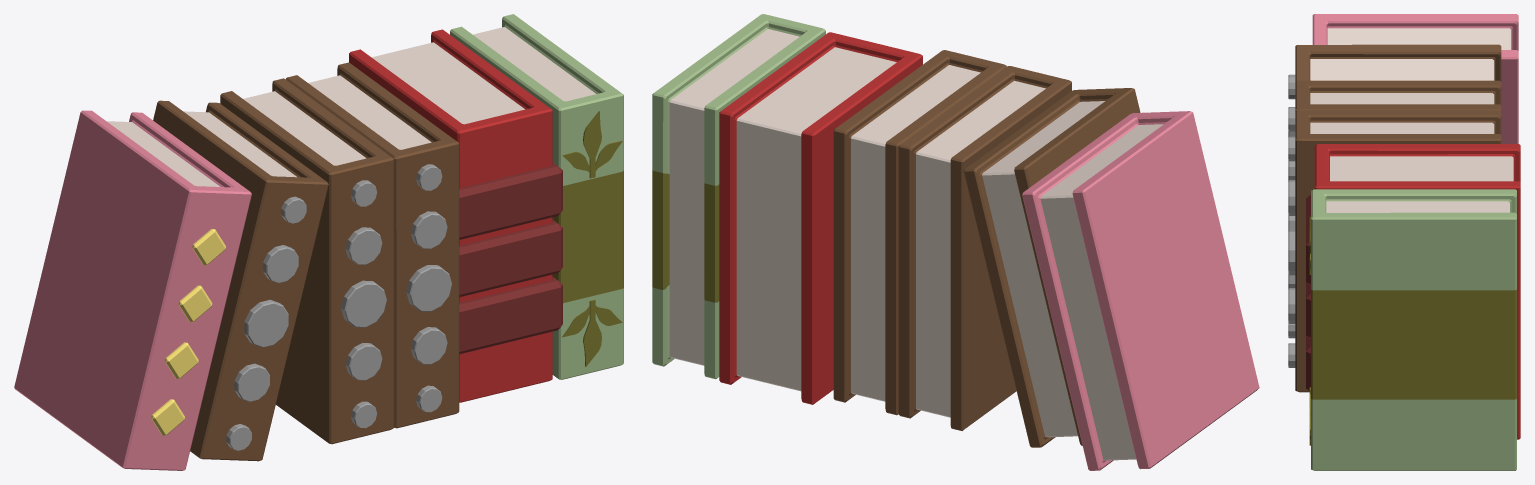
File: Books_16.glb
The picture shows the model from 3 angles, left to right: view 1: azimuth 30°, elevation 25°; view 2: azimuth 150°, elevation 25°; view 3: azimuth 270°, elevation 25°; orthographic projection. The views are drawn at different scales.
Parts seen in each view (by area): view 1: Books_16; view 2: Books_16; view 3: Books_16.
Boxes of the visible parts, x1=… form: Books_16: x1=14, y1=14, x2=623, y2=470; Books_16: x1=652, y1=14, x2=1259, y2=470; Books_16: x1=1288, y1=14, x2=1520, y2=470.
Size of the model in its own units: 0.7568 by 0.4043 by 0.3265.
1 material, 1 textured.
